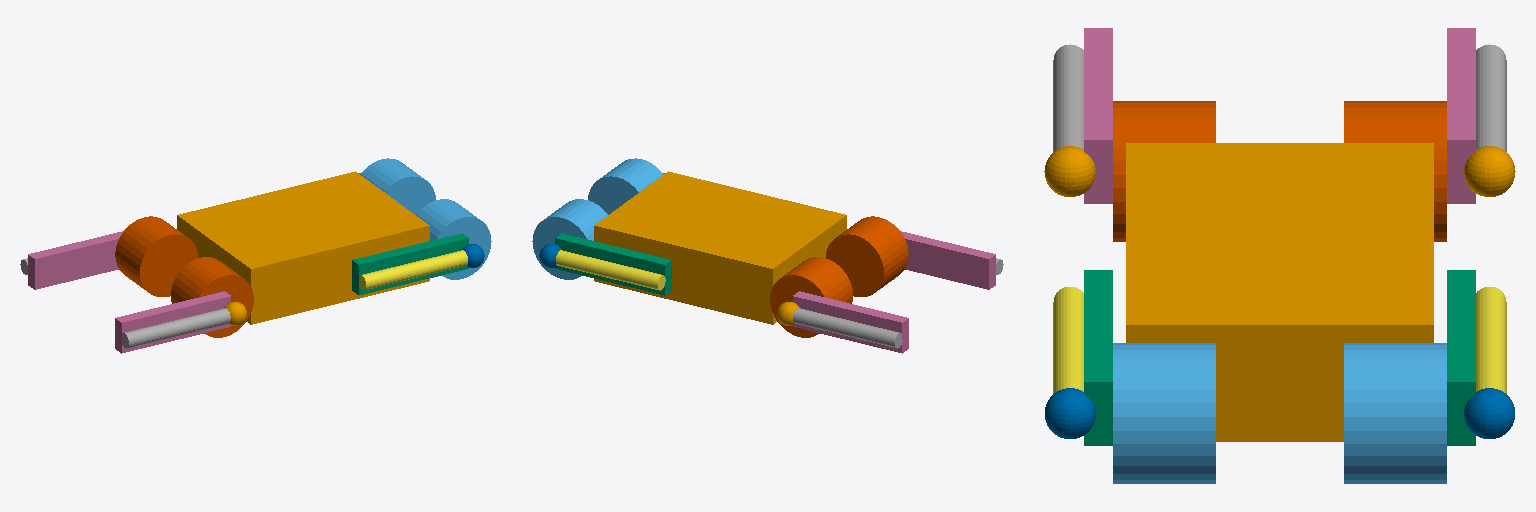
--- Facts derived from the render (not from the file) ---
3 views of the same robot in one strip: view 1: azimuth 30°, elevation 25°; view 2: azimuth 150°, elevation 25°; view 3: azimuth 270°, elevation 25° (orthographic).
Model spirit with 18 links and 17 joints (12 revolute, 5 fixed), rooted at body, posed every joint at zero.
Visible links, largest first — view 1: body, hip1, upper1, hip3, upper2, upper3, hip2, hip0, lower2, lower3; view 2: body, hip3, upper3, hip1, upper0, upper1, hip0, hip2, lower0, lower1; view 3: body, hip0, hip2, hip1, hip3, upper0, upper2, upper1, upper3, lower1, lower3, lower0 (+5 smaller).
Link boxes in pixels (x1=…): body: x1=177, y1=171, x2=429, y2=324; hip1: x1=115, y1=216, x2=197, y2=296; upper1: x1=28, y1=231, x2=123, y2=289; hip3: x1=171, y1=257, x2=253, y2=337; upper2: x1=352, y1=233, x2=468, y2=295; upper3: x1=115, y1=291, x2=230, y2=353; hip2: x1=416, y1=199, x2=491, y2=279; hip0: x1=360, y1=158, x2=435, y2=214; lower2: x1=359, y1=250, x2=467, y2=290; lower3: x1=121, y1=308, x2=230, y2=348; body: x1=594, y1=171, x2=846, y2=324; hip3: x1=826, y1=216, x2=908, y2=296; upper3: x1=900, y1=231, x2=995, y2=289; hip1: x1=770, y1=257, x2=852, y2=337; upper0: x1=555, y1=233, x2=671, y2=295; upper1: x1=793, y1=291, x2=908, y2=353; hip0: x1=532, y1=199, x2=607, y2=279; hip2: x1=588, y1=158, x2=663, y2=214; lower0: x1=556, y1=250, x2=665, y2=290; lower1: x1=793, y1=308, x2=902, y2=348; body: x1=1126, y1=143, x2=1433, y2=441; hip0: x1=1344, y1=343, x2=1446, y2=483; hip2: x1=1113, y1=343, x2=1215, y2=483; hip1: x1=1344, y1=101, x2=1446, y2=241; hip3: x1=1113, y1=101, x2=1215, y2=241; upper0: x1=1447, y1=270, x2=1475, y2=445; upper2: x1=1084, y1=270, x2=1112, y2=445; upper1: x1=1447, y1=28, x2=1475, y2=203; upper3: x1=1084, y1=28, x2=1112, y2=203; lower1: x1=1476, y1=44, x2=1506, y2=151; lower3: x1=1053, y1=44, x2=1083, y2=151; lower0: x1=1476, y1=287, x2=1506, y2=393.
Bounding box of the posed robot: 0.706 × 0.366 × 0.11 m (x, y, z).
Geometry: primitives only (box / cylinder / sphere), no mesh files.

robot.urdf — spirit:
<?xml version="1.0" ?>
<!-- =================================================================================== -->
<!-- |    This document was autogenerated by xacro from quad_template18.urdf.xacro     | -->
<!-- |    EDITING THIS FILE BY HAND IS NOT RECOMMENDED                                 | -->
<!-- =================================================================================== -->
<!-- 
MIT License (modified)
Copyright (c) 2020 Ghost Robotics
Authors:
Avik De <[email redacted]>
Tom Jacobs <[email redacted]>
Permission is hereby granted, free of charge, to any person obtaining a copy
of this **file** (the "Software"), to deal
in the Software without restriction, including without limitation the rights
to use, copy, modify, merge, publish, distribute, sublicense, and/or sell
copies of the Software, and to permit persons to whom the Software is
furnished to do so, subject to the following conditions:
The above copyright notice and this permission notice shall be included in all
copies or substantial portions of the Software.
THE SOFTWARE IS PROVIDED "AS IS", WITHOUT WARRANTY OF ANY KIND, EXPRESS OR
IMPLIED, INCLUDING BUT NOT LIMITED TO THE WARRANTIES OF MERCHANTABILITY,
FITNESS FOR A PARTICULAR PURPOSE AND NONINFRINGEMENT. IN NO EVENT SHALL THE
AUTHORS OR COPYRIGHT HOLDERS BE LIABLE FOR ANY CLAIM, DAMAGES OR OTHER
LIABILITY, WHETHER IN AN ACTION OF CONTRACT, TORT OR OTHERWISE, ARISING FROM,
OUT OF OR IN CONNECTION WITH THE SOFTWARE OR THE USE OR OTHER DEALINGS IN THE
SOFTWARE. 
-->
<robot name="spirit">
  <!-- Body -->
  <link name="body">
    <visual>
      <origin rpy="0 0 0" xyz="0 0 0"/>
      <geometry>
        <box size="0.335 0.24 0.1"/>
      </geometry>
      <material name="darkgray"/>
    </visual>
    <inertial>
      <mass value="5.75"/>
      <!-- Uniform box -->
      <!-- <inertia ixx="1/12*${bodyMass}*(${bodyWidth}*${bodyWidth} + ${bodyHeight}*${bodyHeight})"  ixy="0"  ixz="0" iyy="1/12*${bodyMass}*(${bodyLength}*${bodyLength} + ${bodyHeight}*${bodyHeight})" iyz="0" izz="1/12*${bodyMass}*(${bodyLength}*${bodyLength} + ${bodyWidth}*${bodyWidth})"/> -->
      <inertia ixx="0.05" ixy="0" ixz="0" iyy="0.1" iyz="0" izz="0.1"/>
    </inertial>
    <!-- Just copy geometry for collision -->
    <collision>
      <origin rpy="0 0 0" xyz="0 0 0"/>
      <geometry>
        <box size="0.335 0.24 0.1"/>
        <!-- <uri>model:///meshes/Spirit40_Body_Mesh_transformed.stl</uri> -->
      </geometry>
    </collision>
  </link>
  <gazebo reference="body">
    <material>Gazebo/Black</material>
    <gravity>true</gravity>
  </gazebo>
  <!-- Hip motor -->
  <link name="hip0">
    <visual>
      <origin rpy="1.570796326795 0 0" xyz="0 0.028 0"/>
      <geometry>
        <cylinder length="0.08" radius="0.055"/>
      </geometry>
    </visual>
    <collision>
      <origin rpy="1.570796326795 0 0" xyz="0 0.028 0"/>
      <geometry>
        <!-- <cylinder length="${podLength}" radius="${podRadius}"/> -->
        <box size="0.11 0.11 0.08"/>
      </geometry>
    </collision>
    <inertial>
      <origin rpy="1.570796326795 0 0" xyz="0 0.028 0"/>
      <mass value="0.575"/>
      <!-- <inertia ixx="1/12*${podMass}*${podLength}*${podLength} + 1/4*${podMass}*${podRadius}*${podRadius}"  ixy="0"  ixz="0" iyy="1/12*${podMass}*${podLength}*${podLength} + 1/4*${podMass}*${podRadius}*${podRadius}" iyz="0" izz="1/2*${podMass}*${podRadius}*$
				{podRadius}" /> -->
      <inertia ixx="0.00066963541" ixy="0" ixz="0" iyy="0.00066963541" iyz="0" izz="0.0008696875"/>
    </inertial>
  </link>
  <gazebo reference="hip0">
    <material>Gazebo/Grey</material>
  </gazebo>
  <!-- Upper leg -->
  <link name="upper0">
    <visual>
      <origin rpy="0 0 0" xyz="-0.103 -0.022 0"/>
      <geometry>
        <box size="0.206 0.022 0.055"/>
      </geometry>
      <!-- <material name="silver"/> -->
    </visual>
    <collision>
      <origin rpy="0 0 0" xyz="-0.103 -0.022 0"/>
      <geometry>
        <box size="0.206 0.022 0.055"/>
      </geometry>
    </collision>
    <inertial>
      <origin rpy="0 0 0" xyz="-0.103 -0.022 0"/>
      <mass value="0.775"/>
      <inertia ixx="5e-05" ixy="0" ixz="0" iyy="0.001" iyz="0" izz="0.001"/>
    </inertial>
  </link>
  <gazebo reference="upper0">
    <material>Gazebo/DarkGrey</material>
  </gazebo>
  <!-- Abduction joint. Joint names are: 8 9 10 11 -->
  <joint name="8" type="revolute">
    <parent link="body"/>
    <child link="hip0"/>
    <axis xyz="1 0 0"/>
    <origin xyz="0.2225 0.061999999999999986 0"/>
    <!-- <origin xyz="${front * dx} ${left * dy} 0"/> -->
    <!-- <origin xyz="${front *bodyLength/2+front * podRadius} ${left *bodyWidth/2} 0"/> -->
    <limit effort="40" lower="-0.707" upper="0.707" velocity="30"/>
    <dynamics damping="0.0" friction="0.0"/>
  </joint>
  <!-- Transmission elements required for Gazebo -->
  <transmission name="transmission_8">
    <type>transmission_interface/SimpleTransmission</type>
    <joint name="8">
      <hardwareInterface>hardware_interface/EffortJointInterface</hardwareInterface>
    </joint>
    <actuator name="motor_8">
      <hardwareInterface>EffortJointInterface</hardwareInterface>
      <mechanicalReduction>1</mechanicalReduction>
    </actuator>
  </transmission>
  <!-- Hip joint. (Motor to upper leg). Joint names are: 0 2 4 6 -->
  <joint name="0" type="revolute">
    <parent link="hip0"/>
    <child link="upper0"/>
    <axis xyz="0 -1 0"/>
    <origin xyz="0 0.10098 0"/>
    <!--  rpy="0 -0.3 0" -->
    <limit effort="40" lower="-6.28318530718" upper="6.28318530718" velocity="30"/>
    <dynamics damping="0.0" friction="0.0"/>
  </joint>
  <!-- Transmission elements required for Gazebo -->
  <transmission name="transmission_0">
    <type>transmission_interface/SimpleTransmission</type>
    <joint name="0">
      <hardwareInterface>hardware_interface/EffortJointInterface</hardwareInterface>
    </joint>
    <actuator name="motor_0">
      <hardwareInterface>EffortJointInterface</hardwareInterface>
      <mechanicalReduction>1</mechanicalReduction>
    </actuator>
  </transmission>
  <!-- Lower leg -->
  <link name="lower0">
    <visual>
      <origin rpy="0 1.570796326795 0" xyz="0.103 0 0"/>
      <geometry>
        <cylinder length="0.206" radius="0.013"/>
      </geometry>
      <material name="darkgray"/>
    </visual>
    <collision>
      <origin rpy="0 1.570796326795 0" xyz="0.103 0 0"/>
      <geometry>
        <cylinder length="0.206" radius="0.013"/>
      </geometry>
    </collision>
    <inertial>
      <origin rpy="0 1.570796326795 0" xyz="0.103 0 0"/>
      <mass value="0.075"/>
      <inertia ixx="5e-06" ixy="0" ixz="0" iyy="0.0001" iyz="0" izz="0.0001"/>
    </inertial>
  </link>
  <gazebo reference="lower0">
    <material>Gazebo/Grey</material>
  </gazebo>
  <!-- Knee joint. Joint names are: 1 3 5 7 -->
  <joint name="1" type="revolute">
    <parent link="upper0"/>
    <child link="lower0"/>
    <axis xyz="0 1 0"/>
    <origin xyz="-0.206 0 0"/>
    <!--rpy="0 0.5 0"-->
    <limit effort="40" lower="0" upper="3.14159265359" velocity="30"/>
    <dynamics damping="0.0" friction="0.0"/>
  </joint>
  <!-- Transmission elements required for Gazebo -->
  <transmission name="transmission_1">
    <type>transmission_interface/SimpleTransmission</type>
    <joint name="1">
      <hardwareInterface>hardware_interface/EffortJointInterface</hardwareInterface>
    </joint>
    <actuator name="motor_1">
      <hardwareInterface>EffortJointInterface</hardwareInterface>
      <mechanicalReduction>1</mechanicalReduction>
    </actuator>
  </transmission>
  <!-- Toe -->
  <link name="toe0">
    <contact>
      <friction_anchor/>
      <stiffness value="30000.0"/>
      <damping value="1000.0"/>
      <spinning_friction value="0.3"/>
      <lateral_friction value="50.0"/>
    </contact>
    <visual>
      <origin rpy="0 0 0" xyz="0 0 0"/>
      <geometry>
        <sphere radius="0.02"/>
      </geometry>
      <material name="darkgray"/>
    </visual>
    <collision>
      <origin rpy="0 0 0" xyz="0 0 0"/>
      <geometry>
        <sphere radius="0.02"/>
      </geometry>
    </collision>
    <inertial>
      <mass value="0.015"/>
      <inertia ixx="0.000025" ixy="0" ixz="0" iyy="0.000025" iyz="0" izz="0.000025"/>
      <!-- <inertia ixx="2/5*${toeMass}*${toeRadius}*${toeRadius}"  ixy="0"  ixz="0" iyy="2/5*${toeMass}*${toeRadius}*${toeRadius}" iyz="0" izz="2/5*${toeMass}*${toeRadius}*${toeRadius}" /> -->
    </inertial>
  </link>
  <gazebo reference="toe0">
    <material>Gazebo/Black</material>
    <collision>
      <surface>
        <bounce>
          <restitution_coefficient>0</restitution_coefficient>
          <threshold>1e+06</threshold>
        </bounce>
        <friction>
          <torsional>
            <coefficient>0.3</coefficient>
          </torsional>
          <ode>
            <mu>100.0</mu>
            <mu2>50.0</mu2>
          </ode>
          <bullet>
            <rolling_friction>0.3</rolling_friction>
            <friction2>50.0</friction2>
          </bullet>
        </friction>
        <contact>
          <bullet>
            <kp>30000.0</kp>
            <kd>1000.0</kd>
          </bullet>
          <ode>
            <kp>30000.0</kp>
            <kd>1000.0</kd>
          </ode>
        </contact>
      </surface>
    </collision>
    <sensor name="toe0_contact" type="contact">
      <plugin filename="libgazebo_ros_bumper.so" name="toe0_plugin">
        <alwaysOn>1</alwaysOn>
        <updateRate>1000</updateRate>
        <bumperTopicName>gazebo/toe0_contact_state</bumperTopicName>
        <frameName>world</frameName>
        <robotNamespace>/</robotNamespace>
      </plugin>
      <contact>
        <collision>toe0_collision</collision>
        <topic>__default_topic__</topic>
      </contact>
      <update_rate>1000</update_rate>
    </sensor>
  </gazebo>
  <!-- Hip motor -->
  <link name="hip1">
    <visual>
      <origin rpy="1.570796326795 0 0" xyz="0 0.028 0"/>
      <geometry>
        <cylinder length="0.08" radius="0.055"/>
      </geometry>
    </visual>
    <collision>
      <origin rpy="1.570796326795 0 0" xyz="0 0.028 0"/>
      <geometry>
        <!-- <cylinder length="${podLength}" radius="${podRadius}"/> -->
        <box size="0.11 0.11 0.08"/>
      </geometry>
    </collision>
    <inertial>
      <origin rpy="1.570796326795 0 0" xyz="0 0.028 0"/>
      <mass value="0.575"/>
      <!-- <inertia ixx="1/12*${podMass}*${podLength}*${podLength} + 1/4*${podMass}*${podRadius}*${podRadius}"  ixy="0"  ixz="0" iyy="1/12*${podMass}*${podLength}*${podLength} + 1/4*${podMass}*${podRadius}*${podRadius}" iyz="0" izz="1/2*${podMass}*${podRadius}*$
				{podRadius}" /> -->
      <inertia ixx="0.00066963541" ixy="0" ixz="0" iyy="0.00066963541" iyz="0" izz="0.0008696875"/>
    </inertial>
  </link>
  <gazebo reference="hip1">
    <material>Gazebo/Grey</material>
  </gazebo>
  <!-- Upper leg -->
  <link name="upper1">
    <visual>
      <origin rpy="0 0 0" xyz="-0.103 -0.022 0"/>
      <geometry>
        <box size="0.206 0.022 0.055"/>
      </geometry>
      <!-- <material name="silver"/> -->
    </visual>
    <collision>
      <origin rpy="0 0 0" xyz="-0.103 -0.022 0"/>
      <geometry>
        <box size="0.206 0.022 0.055"/>
      </geometry>
    </collision>
    <inertial>
      <origin rpy="0 0 0" xyz="-0.103 -0.022 0"/>
      <mass value="0.775"/>
      <inertia ixx="5e-05" ixy="0" ixz="0" iyy="0.001" iyz="0" izz="0.001"/>
    </inertial>
  </link>
  <gazebo reference="upper1">
    <material>Gazebo/DarkGrey</material>
  </gazebo>
  <!-- Abduction joint. Joint names are: 8 9 10 11 -->
  <joint name="9" type="revolute">
    <parent link="body"/>
    <child link="hip1"/>
    <axis xyz="1 0 0"/>
    <origin xyz="-0.2225 0.061999999999999986 0"/>
    <!-- <origin xyz="${front * dx} ${left * dy} 0"/> -->
    <!-- <origin xyz="${front *bodyLength/2+front * podRadius} ${left *bodyWidth/2} 0"/> -->
    <limit effort="40" lower="-0.707" upper="0.707" velocity="30"/>
    <dynamics damping="0.0" friction="0.0"/>
  </joint>
  <!-- Transmission elements required for Gazebo -->
  <transmission name="transmission_9">
    <type>transmission_interface/SimpleTransmission</type>
    <joint name="9">
      <hardwareInterface>hardware_interface/EffortJointInterface</hardwareInterface>
    </joint>
    <actuator name="motor_9">
      <hardwareInterface>EffortJointInterface</hardwareInterface>
      <mechanicalReduction>1</mechanicalReduction>
    </actuator>
  </transmission>
  <!-- Hip joint. (Motor to upper leg). Joint names are: 0 2 4 6 -->
  <joint name="2" type="revolute">
    <parent link="hip1"/>
    <child link="upper1"/>
    <axis xyz="0 -1 0"/>
    <origin xyz="0 0.10098 0"/>
    <!--  rpy="0 -0.3 0" -->
    <limit effort="40" lower="-6.28318530718" upper="6.28318530718" velocity="30"/>
    <dynamics damping="0.0" friction="0.0"/>
  </joint>
  <!-- Transmission elements required for Gazebo -->
  <transmission name="transmission_2">
    <type>transmission_interface/SimpleTransmission</type>
    <joint name="2">
      <hardwareInterface>hardware_interface/EffortJointInterface</hardwareInterface>
    </joint>
    <actuator name="motor_2">
      <hardwareInterface>EffortJointInterface</hardwareInterface>
      <mechanicalReduction>1</mechanicalReduction>
    </actuator>
  </transmission>
  <!-- Lower leg -->
  <link name="lower1">
    <visual>
      <origin rpy="0 1.570796326795 0" xyz="0.103 0 0"/>
      <geometry>
        <cylinder length="0.206" radius="0.013"/>
      </geometry>
      <material name="darkgray"/>
    </visual>
    <collision>
      <origin rpy="0 1.570796326795 0" xyz="0.103 0 0"/>
      <geometry>
        <cylinder length="0.206" radius="0.013"/>
      </geometry>
    </collision>
    <inertial>
      <origin rpy="0 1.570796326795 0" xyz="0.103 0 0"/>
      <mass value="0.075"/>
      <inertia ixx="5e-06" ixy="0" ixz="0" iyy="0.0001" iyz="0" izz="0.0001"/>
    </inertial>
  </link>
  <gazebo reference="lower1">
    <material>Gazebo/Grey</material>
  </gazebo>
  <!-- Knee joint. Joint names are: 1 3 5 7 -->
  <joint name="3" type="revolute">
    <parent link="upper1"/>
    <child link="lower1"/>
    <axis xyz="0 1 0"/>
    <origin xyz="-0.206 0 0"/>
    <!--rpy="0 0.5 0"-->
    <limit effort="40" lower="0" upper="3.14159265359" velocity="30"/>
    <dynamics damping="0.0" friction="0.0"/>
  </joint>
  <!-- Transmission elements required for Gazebo -->
  <transmission name="transmission_3">
    <type>transmission_interface/SimpleTransmission</type>
    <joint name="3">
      <hardwareInterface>hardware_interface/EffortJointInterface</hardwareInterface>
    </joint>
    <actuator name="motor_3">
      <hardwareInterface>EffortJointInterface</hardwareInterface>
      <mechanicalReduction>1</mechanicalReduction>
    </actuator>
  </transmission>
  <!-- Toe -->
  <link name="toe1">
    <contact>
      <friction_anchor/>
      <stiffness value="30000.0"/>
      <damping value="1000.0"/>
      <spinning_friction value="0.3"/>
      <lateral_friction value="50.0"/>
    </contact>
    <visual>
      <origin rpy="0 0 0" xyz="0 0 0"/>
      <geometry>
        <sphere radius="0.02"/>
      </geometry>
      <material name="darkgray"/>
    </visual>
    <collision>
      <origin rpy="0 0 0" xyz="0 0 0"/>
      <geometry>
        <sphere radius="0.02"/>
      </geometry>
    </collision>
    <inertial>
      <mass value="0.015"/>
      <inertia ixx="0.000025" ixy="0" ixz="0" iyy="0.000025" iyz="0" izz="0.000025"/>
      <!-- <inertia ixx="2/5*${toeMass}*${toeRadius}*${toeRadius}"  ixy="0"  ixz="0" iyy="2/5*${toeMass}*${toeRadius}*${toeRadius}" iyz="0" izz="2/5*${toeMass}*${toeRadius}*${toeRadius}" /> -->
    </inertial>
  </link>
  <gazebo reference="toe1">
    <material>Gazebo/Black</material>
    <collision>
      <surface>
        <bounce>
          <restitution_coefficient>0</restitution_coefficient>
          <threshold>1e+06</threshold>
        </bounce>
        <friction>
          <torsional>
            <coefficient>0.3</coefficient>
          </torsional>
          <ode>
            <mu>100.0</mu>
            <mu2>50.0</mu2>
          </ode>
          <bullet>
            <rolling_friction>0.3</rolling_friction>
            <friction2>50.0</friction2>
          </bullet>
        </friction>
        <contact>
          <bullet>
            <kp>30000.0</kp>
            <kd>1000.0</kd>
          </bullet>
          <ode>
            <kp>30000.0</kp>
            <kd>1000.0</kd>
          </ode>
        </contact>
      </surface>
    </collision>
    <sensor name="toe1_contact" type="contact">
      <plugin filename="libgazebo_ros_bumper.so" name="toe1_plugin">
        <alwaysOn>1</alwaysOn>
        <updateRate>1000</updateRate>
        <bumperTopicName>gazebo/toe1_contact_state</bumperTopicName>
        <frameName>world</frameName>
        <robotNamespace>/</robotNamespace>
      </plugin>
      <contact>
        <collision>toe1_collision</collision>
        <topic>__default_topic__</topic>
      </contact>
      <update_rate>1000</update_rate>
    </sensor>
  </gazebo>
  <!-- Hip motor -->
  <link name="hip2">
    <visual>
      <origin rpy="1.570796326795 0 0" xyz="0 -0.028 0"/>
      <geometry>
        <cylinder length="0.08" radius="0.055"/>
      </geometry>
    </visual>
    <collision>
      <origin rpy="1.570796326795 0 0" xyz="0 -0.028 0"/>
      <geometry>
        <!-- <cylinder length="${podLength}" radius="${podRadius}"/> -->
        <box size="0.11 0.11 0.08"/>
      </geometry>
    </collision>
    <inertial>
      <origin rpy="1.570796326795 0 0" xyz="0 -0.028 0"/>
      <mass value="0.575"/>
      <!-- <inertia ixx="1/12*${podMass}*${podLength}*${podLength} + 1/4*${podMass}*${podRadius}*${podRadius}"  ixy="0"  ixz="0" iyy="1/12*${podMass}*${podLength}*${podLength} + 1/4*${podMass}*${podRadius}*${podRadius}" iyz="0" izz="1/2*${podMass}*${podRadius}*$
				{podRadius}" /> -->
      <inertia ixx="0.00066963541" ixy="0" ixz="0" iyy="0.00066963541" iyz="0" izz="0.0008696875"/>
    </inertial>
  </link>
  <gazebo reference="hip2">
    <material>Gazebo/Grey</material>
  </gazebo>
  <!-- Upper leg -->
  <link name="upper2">
    <visual>
      <origin rpy="0 0 0" xyz="-0.103 0.022 0"/>
      <geometry>
        <box size="0.206 0.022 0.055"/>
      </geometry>
      <!-- <material name="silver"/> -->
    </visual>
    <collision>
      <origin rpy="0 0 0" xyz="-0.103 0.022 0"/>
      <geometry>
        <box size="0.206 0.022 0.055"/>
      </geometry>
    </collision>
    <inertial>
      <origin rpy="0 0 0" xyz="-0.103 0.022 0"/>
      <mass value="0.775"/>
      <inertia ixx="5e-05" ixy="0" ixz="0" iyy="0.001" iyz="0" izz="0.001"/>
    </inertial>
  </link>
  <gazebo reference="upper2">
    <material>Gazebo/DarkGrey</material>
  </gazebo>
  <!-- Abduction joint. Joint names are: 8 9 10 11 -->
  <joint name="10" type="revolute">
    <parent link="body"/>
    <child link="hip2"/>
    <axis xyz="1 0 0"/>
    <origin xyz="0.2225 -0.061999999999999986 0"/>
    <!-- <origin xyz="${front * dx} ${left * dy} 0"/> -->
    <!-- <origin xyz="${front *bodyLength/2+front * podRadius} ${left *bodyWidth/2} 0"/> -->
    <limit effort="40" lower="-0.707" upper="0.707" velocity="30"/>
    <dynamics damping="0.0" friction="0.0"/>
  </joint>
  <!-- Transmission elements required for Gazebo -->
  <transmission name="transmission_10">
    <type>transmission_interface/SimpleTransmission</type>
    <joint name="10">
      <hardwareInterface>hardware_interface/EffortJointInterface</hardwareInterface>
    </joint>
    <actuator name="motor_10">
      <hardwareInterface>EffortJointInterface</hardwareInterface>
      <mechanicalReduction>1</mechanicalReduction>
    </actuator>
  </transmission>
  <!-- Hip joint. (Motor to upper leg). Joint names are: 0 2 4 6 -->
  <joint name="4" type="revolute">
    <parent link="hip2"/>
    <child link="upper2"/>
    <axis xyz="0 -1 0"/>
    <origin xyz="0 -0.10098 0"/>
    <!--  rpy="0 -0.3 0" -->
    <limit effort="40" lower="-6.28318530718" upper="6.28318530718" velocity="30"/>
    <dynamics damping="0.0" friction="0.0"/>
  </joint>
  <!-- Transmission elements required for Gazebo -->
  <transmission name="transmission_4">
    <type>transmission_interface/SimpleTransmission</type>
    <joint name="4">
      <hardwareInterface>hardware_interface/EffortJointInterface</hardwareInterface>
    </joint>
    <actuator name="motor_4">
      <hardwareInterface>EffortJointInterface</hardwareInterface>
      <mechanicalReduction>1</mechanicalReduction>
    </actuator>
  </transmission>
  <!-- Lower leg -->
  <link name="lower2">
    <visual>
      <origin rpy="0 1.570796326795 0" xyz="0.103 0 0"/>
      <geometry>
        <cylinder length="0.206" radius="0.013"/>
      </geometry>
      <material name="darkgray"/>
    </visual>
    <collision>
      <origin rpy="0 1.570796326795 0" xyz="0.103 0 0"/>
      <geometry>
        <cylinder length="0.206" radius="0.013"/>
      </geometry>
    </collision>
    <inertial>
      <origin rpy="0 1.570796326795 0" xyz="0.103 0 0"/>
      <mass value="0.075"/>
      <inertia ixx="5e-06" ixy="0" ixz="0" iyy="0.0001" iyz="0" izz="0.0001"/>
    </inertial>
  </link>
  <gazebo reference="lower2">
    <material>Gazebo/Grey</material>
  </gazebo>
  <!-- Knee joint. Joint names are: 1 3 5 7 -->
  <joint name="5" type="revolute">
    <parent link="upper2"/>
    <child link="lower2"/>
    <axis xyz="0 1 0"/>
    <origin xyz="-0.206 0 0"/>
    <!--rpy="0 0.5 0"-->
    <limit effort="40" lower="0" upper="3.14159265359" velocity="30"/>
    <dynamics damping="0.0" friction="0.0"/>
  </joint>
  <!-- Transmission elements required for Gazebo -->
  <transmission name="transmission_5">
    <type>transmission_interface/SimpleTransmission</type>
    <joint name="5">
      <hardwareInterface>hardware_interface/EffortJointInterface</hardwareInterface>
    </joint>
    <actuator name="motor_5">
      <hardwareInterface>EffortJointInterface</hardwareInterface>
      <mechanicalReduction>1</mechanicalReduction>
    </actuator>
  </transmission>
  <!-- Toe -->
  <link name="toe2">
    <contact>
      <friction_anchor/>
      <stiffness value="30000.0"/>
      <damping value="1000.0"/>
      <spinning_friction value="0.3"/>
      <lateral_friction value="50.0"/>
    </contact>
    <visual>
      <origin rpy="0 0 0" xyz="0 0 0"/>
      <geometry>
        <sphere radius="0.02"/>
      </geometry>
      <material name="darkgray"/>
    </visual>
    <collision>
      <origin rpy="0 0 0" xyz="0 0 0"/>
      <geometry>
        <sphere radius="0.02"/>
      </geometry>
    </collision>
    <inertial>
      <mass value="0.015"/>
      <inertia ixx="0.000025" ixy="0" ixz="0" iyy="0.000025" iyz="0" izz="0.000025"/>
      <!-- <inertia ixx="2/5*${toeMass}*${toeRadius}*${toeRadius}"  ixy="0"  ixz="0" iyy="2/5*${toeMass}*${toeRadius}*${toeRadius}" iyz="0" izz="2/5*${toeMass}*${toeRadius}*${toeRadius}" /> -->
    </inertial>
  </link>
  <gazebo reference="toe2">
    <material>Gazebo/Black</material>
    <collision>
      <surface>
        <bounce>
          <restitution_coefficient>0</restitution_coefficient>
          <threshold>1e+06</threshold>
        </bounce>
        <friction>
          <torsional>
            <coefficient>0.3</coefficient>
          </torsional>
          <ode>
            <mu>100.0</mu>
            <mu2>50.0</mu2>
          </ode>
          <bullet>
            <rolling_friction>0.3</rolling_friction>
            <friction2>50.0</friction2>
          </bullet>
        </friction>
        <contact>
          <bullet>
            <kp>30000.0</kp>
            <kd>1000.0</kd>
          </bullet>
          <ode>
            <kp>30000.0</kp>
            <kd>1000.0</kd>
          </ode>
        </contact>
      </surface>
    </collision>
    <sensor name="toe2_contact" type="contact">
      <plugin filename="libgazebo_ros_bumper.so" name="toe2_plugin">
        <alwaysOn>1</alwaysOn>
        <updateRate>1000</updateRate>
        <bumperTopicName>gazebo/toe2_contact_state</bumperTopicName>
        <frameName>world</frameName>
        <robotNamespace>/</robotNamespace>
      </plugin>
      <contact>
        <collision>toe2_collision</collision>
        <topic>__default_topic__</topic>
      </contact>
      <update_rate>1000</update_rate>
    </sensor>
  </gazebo>
  <!-- Hip motor -->
  <link name="hip3">
    <visual>
      <origin rpy="1.570796326795 0 0" xyz="0 -0.028 0"/>
      <geometry>
        <cylinder length="0.08" radius="0.055"/>
      </geometry>
    </visual>
    <collision>
      <origin rpy="1.570796326795 0 0" xyz="0 -0.028 0"/>
      <geometry>
        <!-- <cylinder length="${podLength}" radius="${podRadius}"/> -->
        <box size="0.11 0.11 0.08"/>
      </geometry>
    </collision>
    <inertial>
      <origin rpy="1.570796326795 0 0" xyz="0 -0.028 0"/>
      <mass value="0.575"/>
      <!-- <inertia ixx="1/12*${podMass}*${podLength}*${podLength} + 1/4*${podMass}*${podRadius}*${podRadius}"  ixy="0"  ixz="0" iyy="1/12*${podMass}*${podLength}*${podLength} + 1/4*${podMass}*${podRadius}*${podRadius}" iyz="0" izz="1/2*${podMass}*${podRadius}*$
				{podRadius}" /> -->
      <inertia ixx="0.00066963541" ixy="0" ixz="0" iyy="0.00066963541" iyz="0" izz="0.0008696875"/>
    </inertial>
  </link>
  <gazebo reference="hip3">
    <material>Gazebo/Grey</material>
  </gazebo>
  <!-- Upper leg -->
  <link name="upper3">
    <visual>
      <origin rpy="0 0 0" xyz="-0.103 0.022 0"/>
      <geometry>
        <box size="0.206 0.022 0.055"/>
      </geometry>
      <!-- <material name="silver"/> -->
    </visual>
    <collision>
      <origin rpy="0 0 0" xyz="-0.103 0.022 0"/>
      <geometry>
        <box size="0.206 0.022 0.055"/>
      </geometry>
    </collision>
    <inertial>
      <origin rpy="0 0 0" xyz="-0.103 0.022 0"/>
      <mass value="0.775"/>
      <inertia ixx="5e-05" ixy="0" ixz="0" iyy="0.001" iyz="0" izz="0.001"/>
    </inertial>
  </link>
  <gazebo reference="upper3">
    <material>Gazebo/DarkGrey</material>
  </gazebo>
  <!-- Abduction joint. Joint names are: 8 9 10 11 -->
  <joint name="11" type="revolute">
    <parent link="body"/>
    <child link="hip3"/>
    <axis xyz="1 0 0"/>
    <origin xyz="-0.2225 -0.061999999999999986 0"/>
    <!-- <origin xyz="${front * dx} ${left * dy} 0"/> -->
    <!-- <origin xyz="${front *bodyLength/2+front * podRadius} ${left *bodyWidth/2} 0"/> -->
    <limit effort="40" lower="-0.707" upper="0.707" velocity="30"/>
    <dynamics damping="0.0" friction="0.0"/>
  </joint>
  <!-- Transmission elements required for Gazebo -->
  <transmission name="transmission_11">
    <type>transmission_interface/SimpleTransmission</type>
    <joint name="11">
      <hardwareInterface>hardware_interface/EffortJointInterface</hardwareInterface>
    </joint>
    <actuator name="motor_11">
      <hardwareInterface>EffortJointInterface</hardwareInterface>
      <mechanicalReduction>1</mechanicalReduction>
    </actuator>
  </transmission>
  <!-- Hip joint. (Motor to upper leg). Joint names are: 0 2 4 6 -->
  <joint name="6" type="revolute">
    <parent link="hip3"/>
    <child link="upper3"/>
    <axis xyz="0 -1 0"/>
    <origin xyz="0 -0.10098 0"/>
    <!--  rpy="0 -0.3 0" -->
    <limit effort="40" lower="-6.28318530718" upper="6.28318530718" velocity="30"/>
    <dynamics damping="0.0" friction="0.0"/>
  </joint>
  <!-- Transmission elements required for Gazebo -->
  <transmission name="transmission_6">
    <type>transmission_interface/SimpleTransmission</type>
    <joint name="6">
      <hardwareInterface>hardware_interface/EffortJointInterface</hardwareInterface>
    </joint>
    <actuator name="motor_6">
      <hardwareInterface>EffortJointInterface</hardwareInterface>
      <mechanicalReduction>1</mechanicalReduction>
    </actuator>
  </transmission>
  <!-- Lower leg -->
  <link name="lower3">
    <visual>
      <origin rpy="0 1.570796326795 0" xyz="0.103 0 0"/>
      <geometry>
        <cylinder length="0.206" radius="0.013"/>
      </geometry>
      <material name="darkgray"/>
    </visual>
    <collision>
      <origin rpy="0 1.570796326795 0" xyz="0.103 0 0"/>
      <geometry>
        <cylinder length="0.206" radius="0.013"/>
      </geometry>
    </collision>
    <inertial>
      <origin rpy="0 1.570796326795 0" xyz="0.103 0 0"/>
      <mass value="0.075"/>
      <inertia ixx="5e-06" ixy="0" ixz="0" iyy="0.0001" iyz="0" izz="0.0001"/>
    </inertial>
  </link>
  <gazebo reference="lower3">
    <material>Gazebo/Grey</material>
  </gazebo>
  <!-- Knee joint. Joint names are: 1 3 5 7 -->
  <joint name="7" type="revolute">
    <parent link="upper3"/>
    <child link="lower3"/>
    <axis xyz="0 1 0"/>
    <origin xyz="-0.206 0 0"/>
    <!--rpy="0 0.5 0"-->
    <limit effort="40" lower="0" upper="3.14159265359" velocity="30"/>
    <dynamics damping="0.0" friction="0.0"/>
  </joint>
  <!-- Transmission elements required for Gazebo -->
  <transmission name="transmission_7">
    <type>transmission_interface/SimpleTransmission</type>
    <joint name="7">
      <hardwareInterface>hardware_interface/EffortJointInterface</hardwareInterface>
    </joint>
    <actuator name="motor_7">
      <hardwareInterface>EffortJointInterface</hardwareInterface>
      <mechanicalReduction>1</mechanicalReduction>
    </actuator>
  </transmission>
  <!-- Toe -->
  <link name="toe3">
    <contact>
      <friction_anchor/>
      <stiffness value="30000.0"/>
      <damping value="1000.0"/>
      <spinning_friction value="0.3"/>
      <lateral_friction value="50.0"/>
    </contact>
    <visual>
      <origin rpy="0 0 0" xyz="0 0 0"/>
      <geometry>
        <sphere radius="0.02"/>
      </geometry>
      <material name="darkgray"/>
    </visual>
    <collision>
      <origin rpy="0 0 0" xyz="0 0 0"/>
      <geometry>
        <sphere radius="0.02"/>
      </geometry>
    </collision>
    <inertial>
      <mass value="0.015"/>
      <inertia ixx="0.000025" ixy="0" ixz="0" iyy="0.000025" iyz="0" izz="0.000025"/>
      <!-- <inertia ixx="2/5*${toeMass}*${toeRadius}*${toeRadius}"  ixy="0"  ixz="0" iyy="2/5*${toeMass}*${toeRadius}*${toeRadius}" iyz="0" izz="2/5*${toeMass}*${toeRadius}*${toeRadius}" /> -->
    </inertial>
  </link>
  <gazebo reference="toe3">
    <material>Gazebo/Black</material>
    <collision>
      <surface>
        <bounce>
          <restitution_coefficient>0</restitution_coefficient>
          <threshold>1e+06</threshold>
        </bounce>
        <friction>
          <torsional>
            <coefficient>0.3</coefficient>
          </torsional>
          <ode>
            <mu>100.0</mu>
            <mu2>50.0</mu2>
          </ode>
          <bullet>
            <rolling_friction>0.3</rolling_friction>
            <friction2>50.0</friction2>
          </bullet>
        </friction>
        <contact>
          <bullet>
            <kp>30000.0</kp>
            <kd>1000.0</kd>
          </bullet>
          <ode>
            <kp>30000.0</kp>
            <kd>1000.0</kd>
          </ode>
        </contact>
      </surface>
    </collision>
    <sensor name="toe3_contact" type="contact">
      <plugin filename="libgazebo_ros_bumper.so" name="toe3_plugin">
        <alwaysOn>1</alwaysOn>
        <updateRate>1000</updateRate>
        <bumperTopicName>gazebo/toe3_contact_state</bumperTopicName>
        <frameName>world</frameName>
        <robotNamespace>/</robotNamespace>
      </plugin>
      <contact>
        <collision>toe3_collision</collision>
        <topic>__default_topic__</topic>
      </contact>
      <update_rate>1000</update_rate>
    </sensor>
  </gazebo>
  <link name="imu::link">
    <visual>
      <origin rpy="0 0 0" xyz="0 0 0"/>
      <geometry>
        <sphere radius="0.02"/>
      </geometry>
      <material name="gray"/>
    </visual>
    <inertial>
      <mass value="0.001"/>
      <inertia ixx="0.0001" ixy="0" ixz="0" iyy="0" iyz="0" izz="0"/>
    </inertial>
  </link>
  <gazebo reference="imu::link">
    <material>Gazebo/Gray</material>
    <sensor name="imu_sensor" type="imu">
      <always_on>1</always_on>
      <update_rate>100</update_rate>
      <visualize>1</visualize>
      <topic>__default_topic__</topic>
      <plugin filename="libgazebo_ros_imu_sensor.so" name="imu_plugin">
        <topicName>/mcu/state/imu</topicName>
        <bodyName>imu::link</bodyName>
        <robotNamespace>/</robotNamespace>
        <updateRateHZ>500.0</updateRateHZ>
        <gaussianNoise>0.0</gaussianNoise>
        <xyzOffset>0 0 0</xyzOffset>
        <rpyOffset>0 0 0</rpyOffset>
        <frameName>imu::link</frameName>
        <initialOrientationAsReference>0</initialOrientationAsReference>
      </plugin>
      <pose frame="">0 0 0 0 -0 0</pose>
      <imu/>
    </sensor>
  </gazebo>
  <joint name="jtoe0" type="fixed">
    <parent link="lower0"/>
    <child link="toe0"/>
    <origin xyz="0.206 0 -0.0"/>
    <dynamics damping="0.0" friction="0.0"/>
  </joint>
  <gazebo reference="jtoe0">
    <disableFixedJointLumping>1</disableFixedJointLumping>
    <preserveFixedJoint>1</preserveFixedJoint>
  </gazebo>
  <joint name="jtoe1" type="fixed">
    <parent link="lower1"/>
    <child link="toe1"/>
    <origin xyz="0.206 0 -0.0"/>
    <dynamics damping="0.0" friction="0.0"/>
  </joint>
  <gazebo reference="jtoe1">
    <disableFixedJointLumping>1</disableFixedJointLumping>
    <preserveFixedJoint>1</preserveFixedJoint>
  </gazebo>
  <joint name="jtoe2" type="fixed">
    <parent link="lower2"/>
    <child link="toe2"/>
    <origin xyz="0.206 0 -0.0"/>
    <dynamics damping="0.0" friction="0.0"/>
  </joint>
  <gazebo reference="jtoe2">
    <disableFixedJointLumping>1</disableFixedJointLumping>
    <preserveFixedJoint>1</preserveFixedJoint>
  </gazebo>
  <joint name="jtoe3" type="fixed">
    <parent link="lower3"/>
    <child link="toe3"/>
    <origin xyz="0.206 0 -0.0"/>
    <dynamics damping="0.0" friction="0.0"/>
  </joint>
  <gazebo reference="jtoe3">
    <disableFixedJointLumping>1</disableFixedJointLumping>
    <preserveFixedJoint>1</preserveFixedJoint>
  </gazebo>
  <joint name="imu_joint" type="fixed">
    <parent link="body"/>
    <child link="imu::link"/>
  </joint>
  <gazebo reference="imu_joint">
    <disableFixedJointLumping>1</disableFixedJointLumping>
    <preserveFixedJoint>1</preserveFixedJoint>
  </gazebo>
  <!--    CUSTOMIZED SECTIONS	ABOVE. NOT FROM GHOST ROBOTICS.    -->
  <!-- Add ros_control plugin -->
  <gazebo>
    <plugin filename="libgazebo_ros_control.so" name="gazebo_ros_control">
      <robotNamespace>/spirit</robotNamespace>
      <controlPeriod>0.002</controlPeriod>
    </plugin>
    <plugin filename="libground_truth_estimator.so" name="ground_truth_estimator">
      <updateRateHZ>500.0</updateRateHZ>
      <robotNamespace>/</robotNamespace>
    </plugin>
  </gazebo>
</robot>
